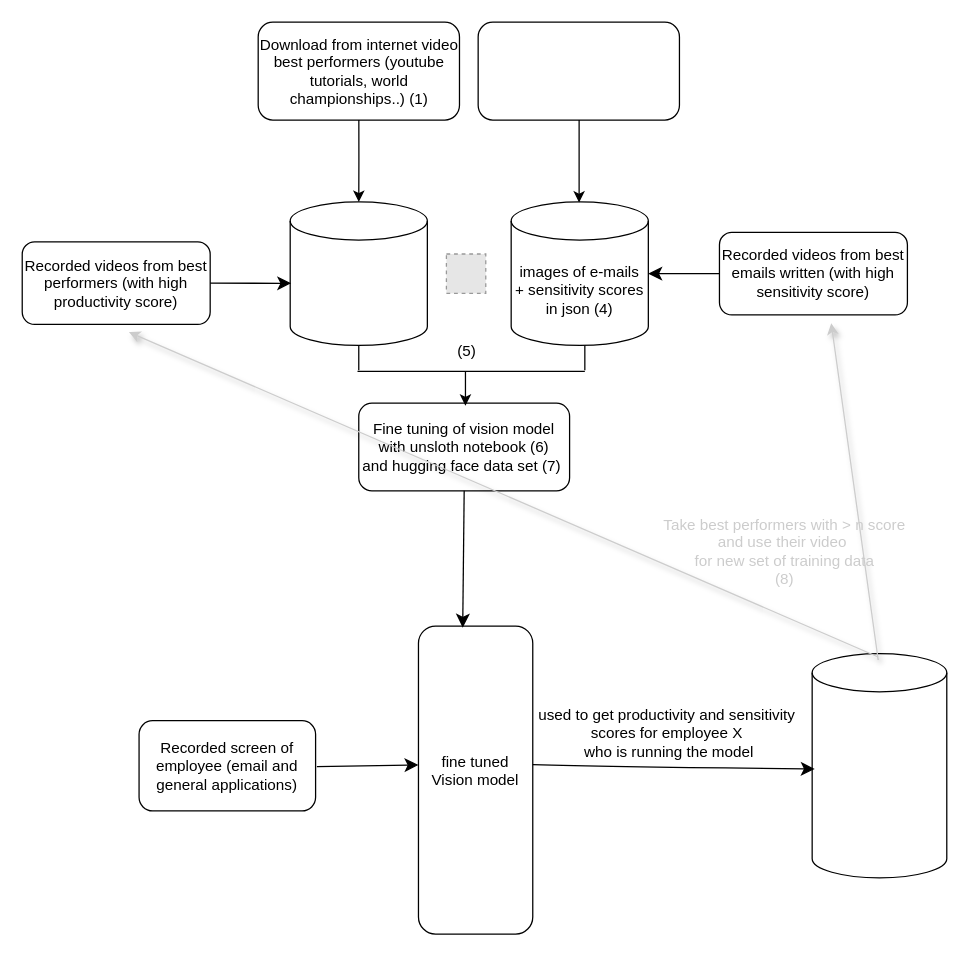
The diagram is 969 pixels wide and 956 high, and some of its shapes have lost their labels. Grey dashed boxes stand in for pictures. Here are the shapes that lost their labels. From the top down, the centre of each, then its label:
the point at 578,70: AI generated email with structured output (2)
the point at 358,273: get frames from video + productivity scores in json (3)
the point at 879,765: database (profile of employees with sensitivity and productivity analysis)
